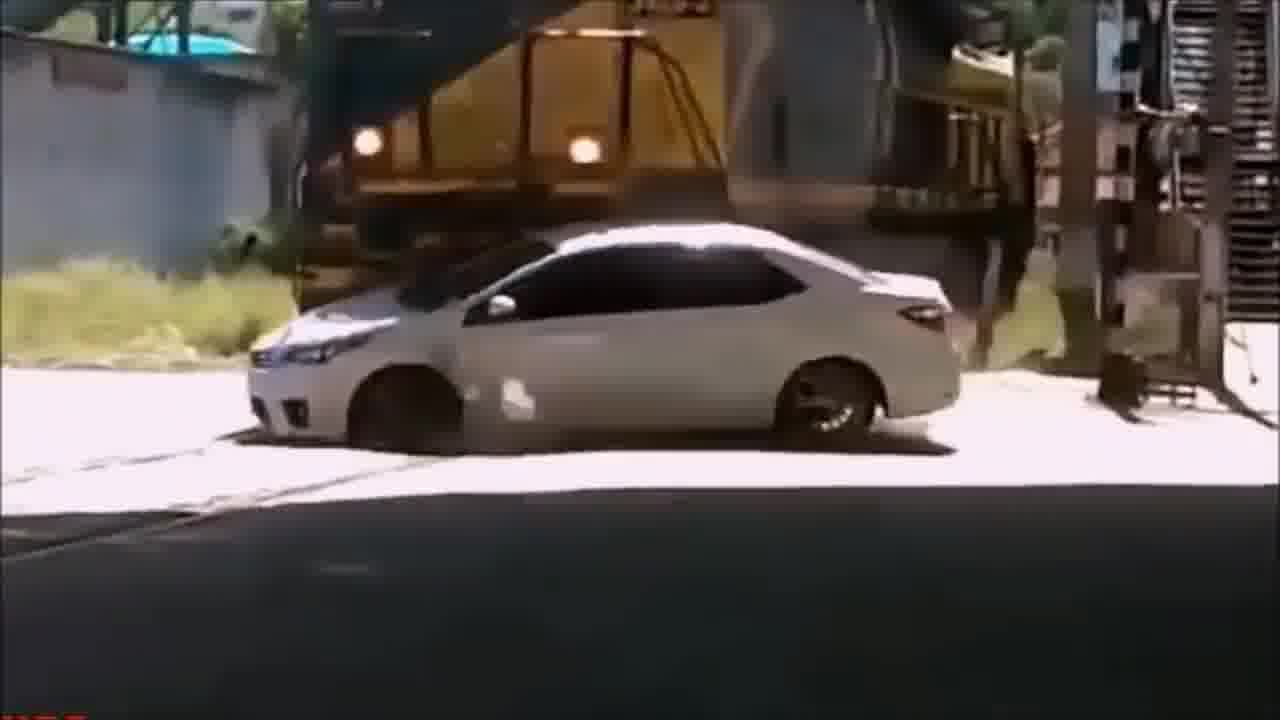crossing railway track: (232, 212, 981, 445)
